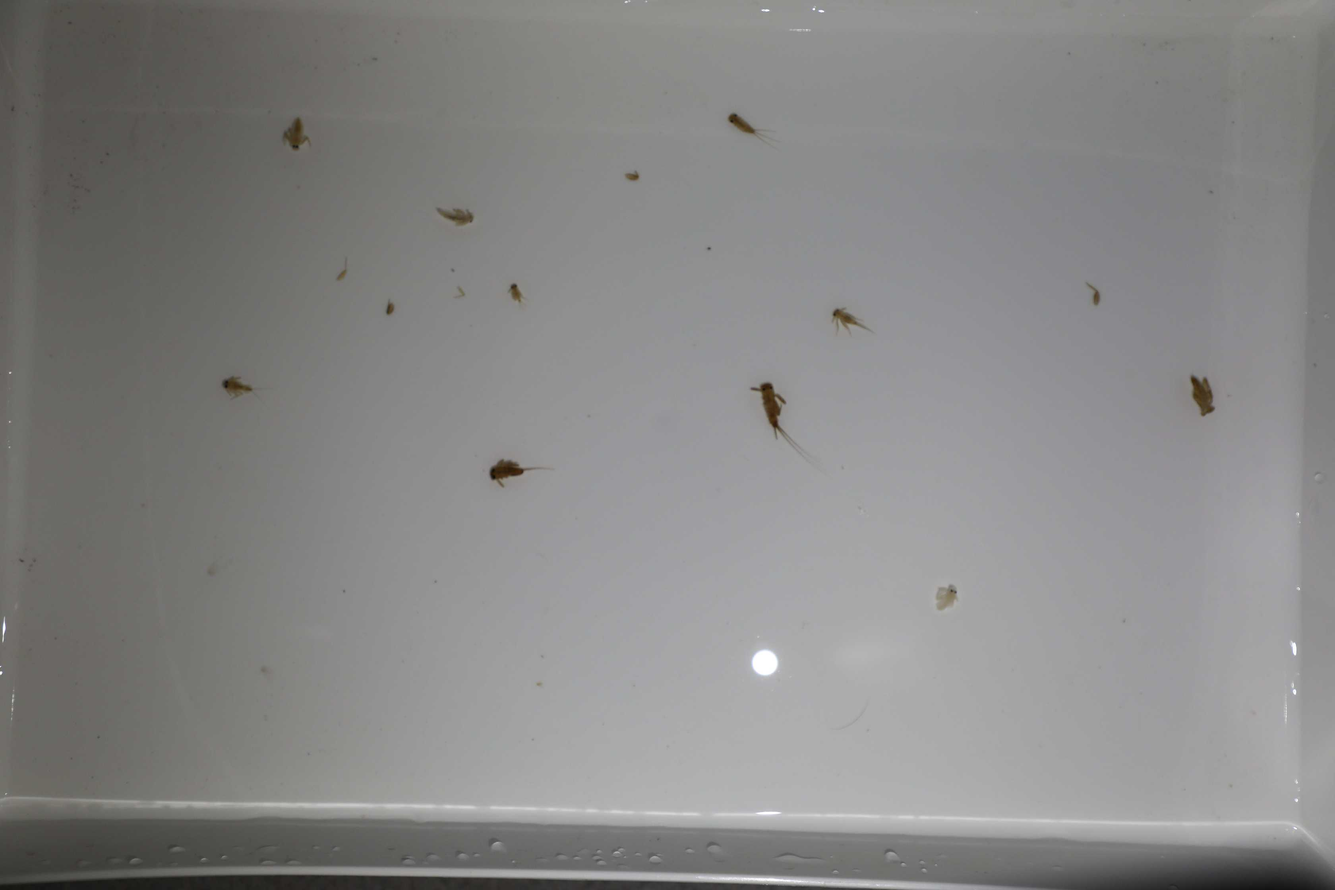Mayfly: (746, 376, 826, 481), (477, 454, 565, 492), (826, 304, 877, 345), (723, 106, 771, 149), (1182, 372, 1219, 409), (281, 117, 312, 157), (428, 208, 479, 228), (936, 578, 963, 614), (218, 373, 253, 400), (504, 282, 532, 307)
